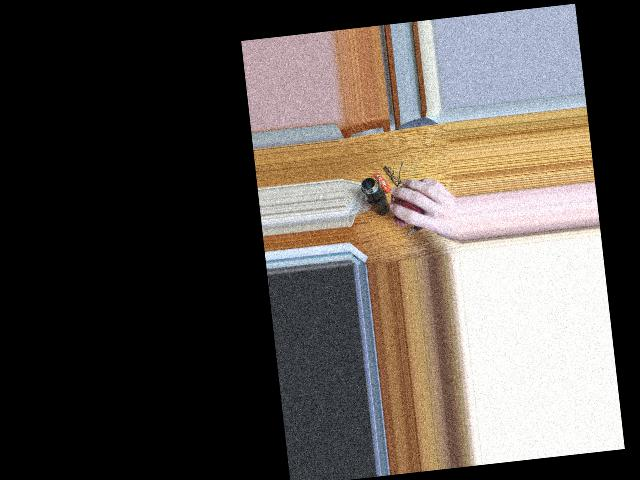onion: (397, 183, 433, 225)
